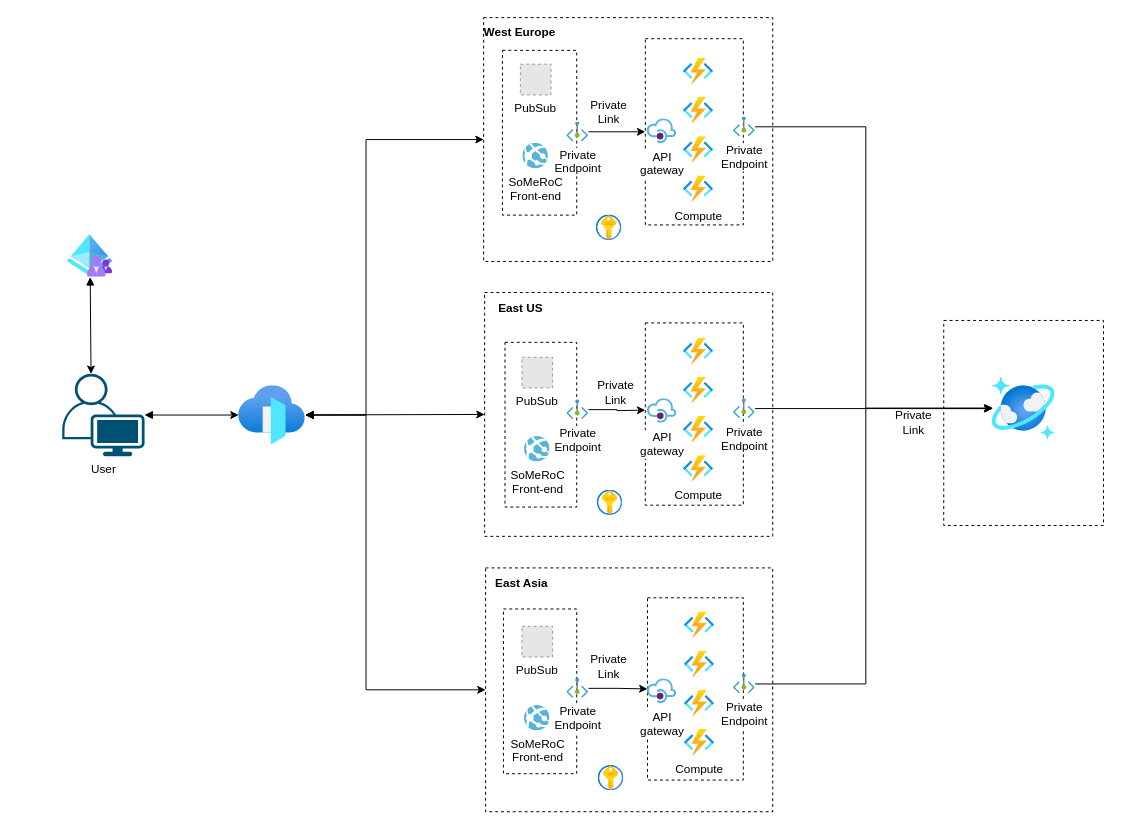
This 1121x829 diagram has some shape labels left out. Grey dashed boxes stand in for pictures. The box of each missing label's shape, as (x1, y1, x2, y2) in pixels:
Azure B2C For federated authentication: (67, 234, 112, 277)
Cosmos DB: (992, 377, 1054, 440)
Front door: (238, 385, 305, 444)
